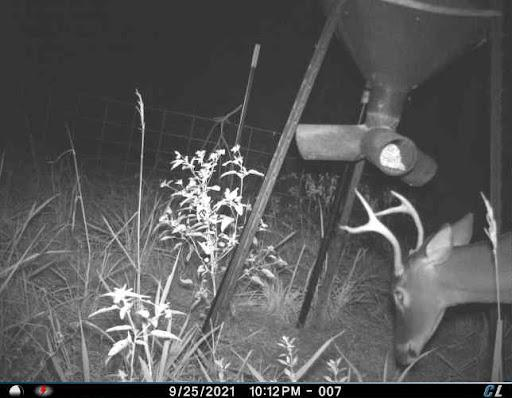Deer: (339, 182, 512, 374)
